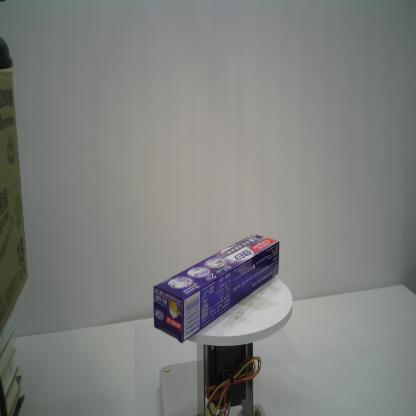Personal Hygiene: (152, 233, 280, 340)
